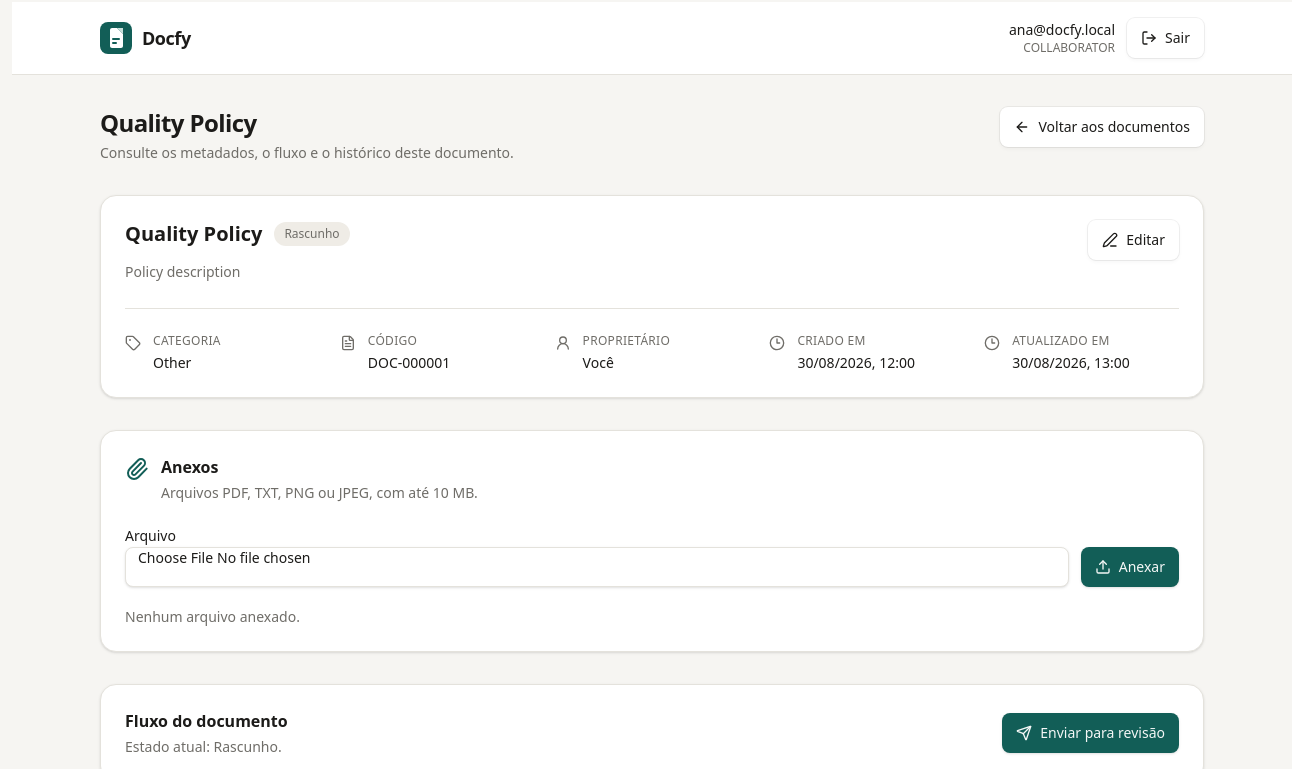
DocumentDetailPage workflow › hides workflow actions while metadata is being edited
Click the button "Editar" at [1134, 240], box [1088,220,1179,260]
(page scrolled)
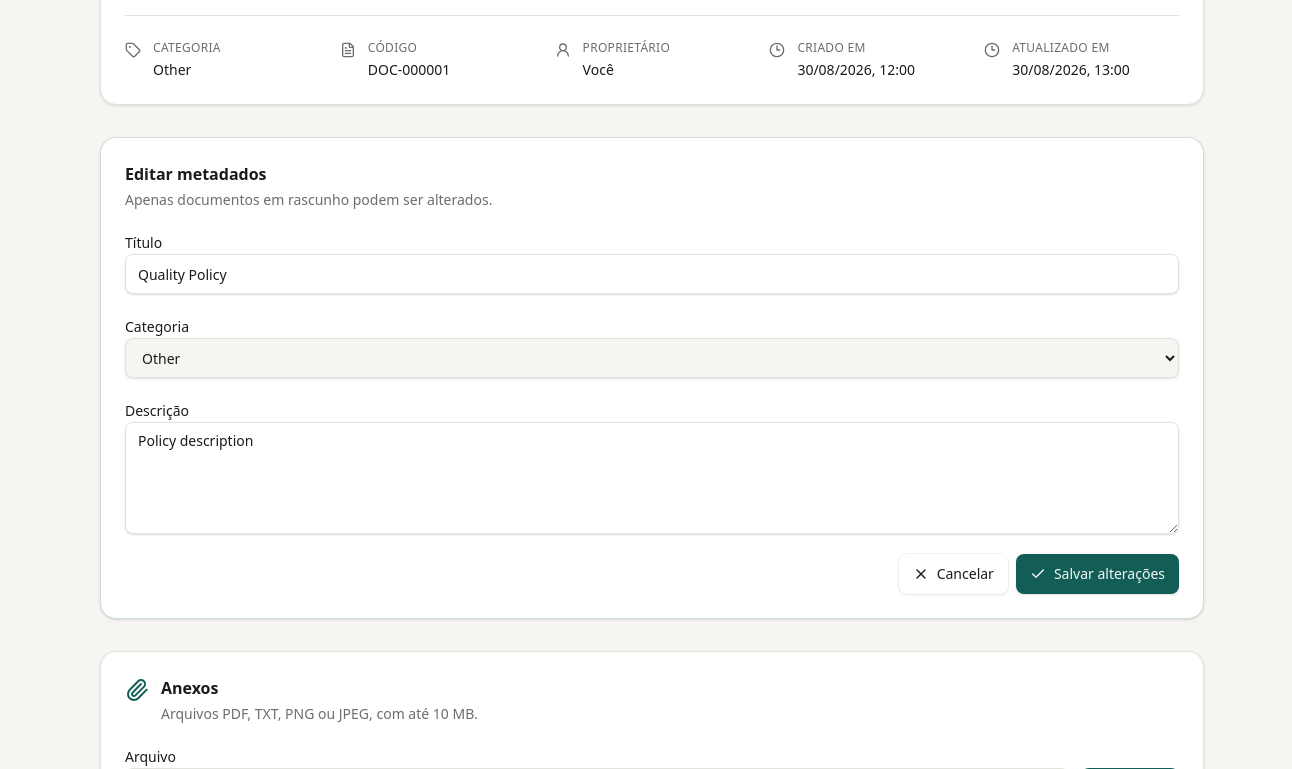
Expected: the button "Enviar para revisão" is gone
Expected: the form named "Editar documento" is shown, [100,137,1204,619]
